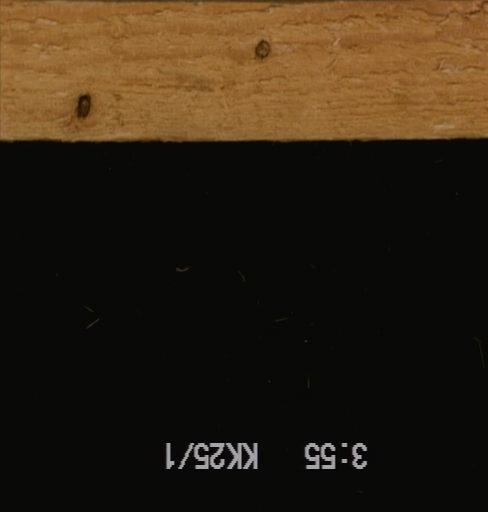dry_knot: (74, 92, 93, 121), (253, 38, 271, 61)
